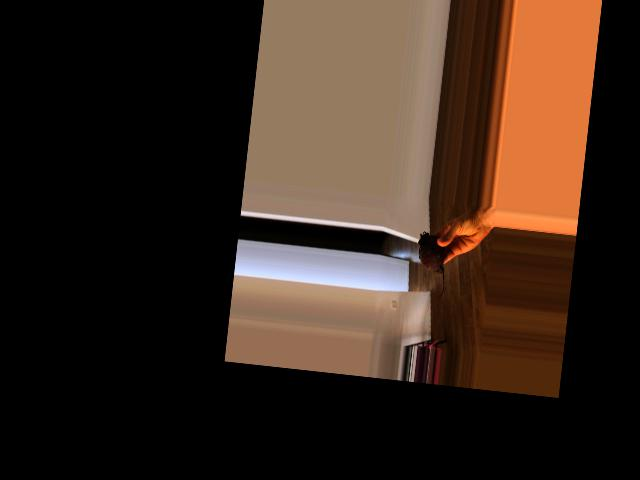beet: (412, 232, 450, 300)
